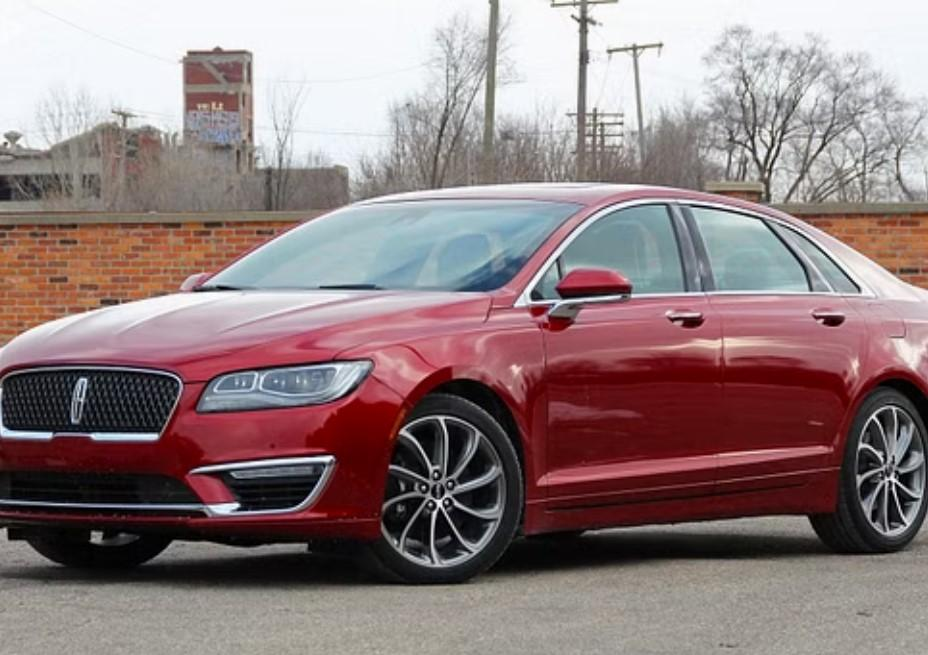lincoln: (60, 370, 97, 433)
